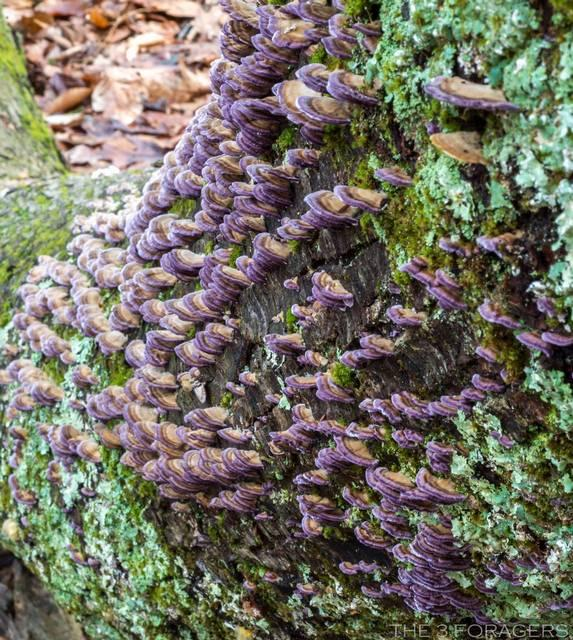poisonous_mushroom: (77, 0, 555, 630), (421, 73, 522, 116)
